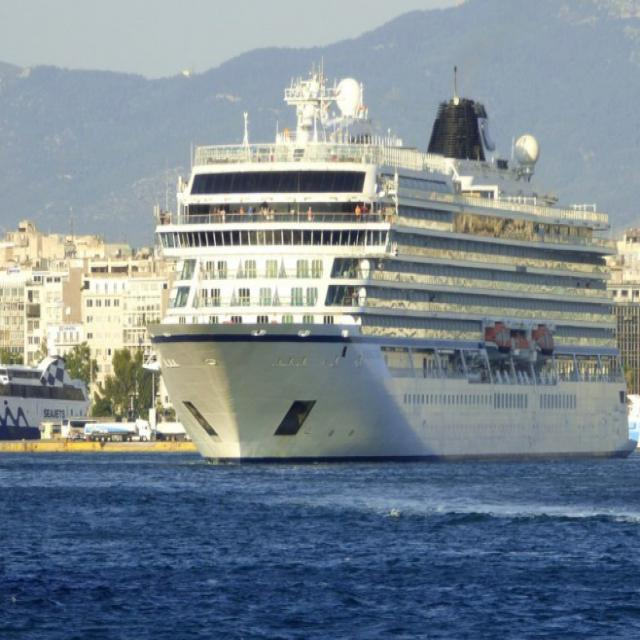cruises: (141, 53, 640, 474)
